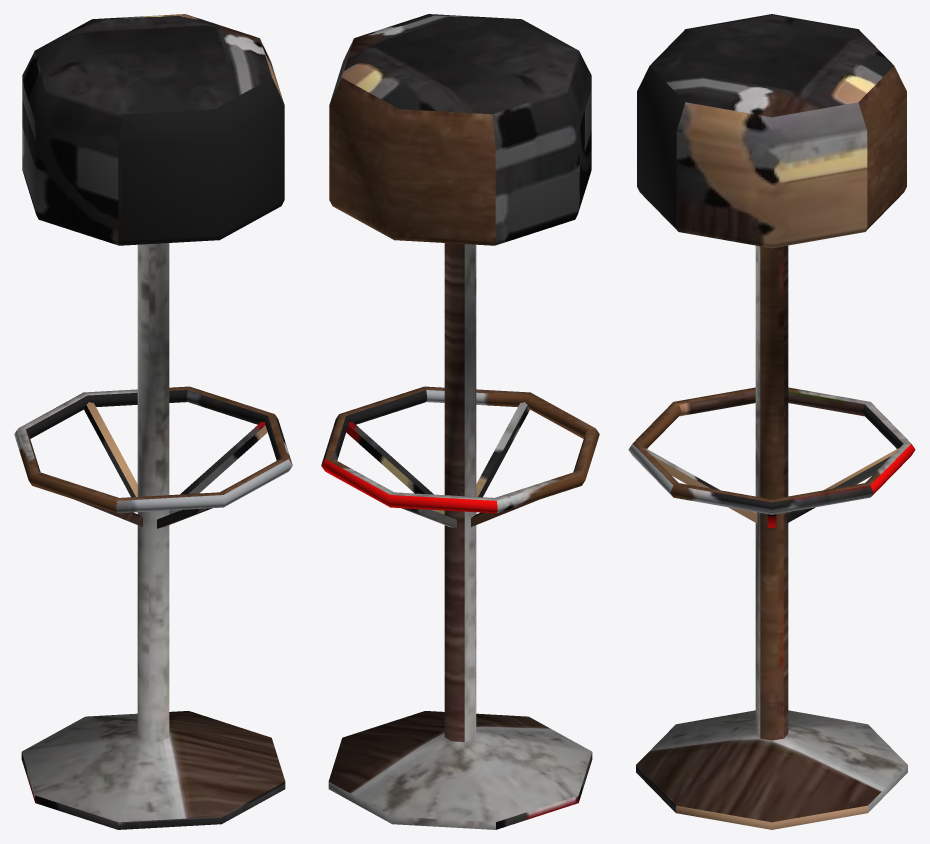
File: diner-chair.glb
The picture shows the model from 3 angles, left to right: view 1: azimuth 30°, elevation 25°; view 2: azimuth 150°, elevation 25°; view 3: azimuth 270°, elevation 25°; orthographic projection.
Parts seen in each view (by area): view 1: SM_Chair_Restaurant_0; view 2: SM_Chair_Restaurant_0; view 3: SM_Chair_Restaurant_0.
Boxes of the visible parts, <box> form: SM_Chair_Restaurant_0: <box>14,14,292,829</box>; SM_Chair_Restaurant_0: <box>321,14,599,829</box>; SM_Chair_Restaurant_0: <box>628,14,915,829</box>.
Size of the model in its own units: 0.2156 by 0.5944 by 0.2156.
Materials: 1 (1 with a texture image).
